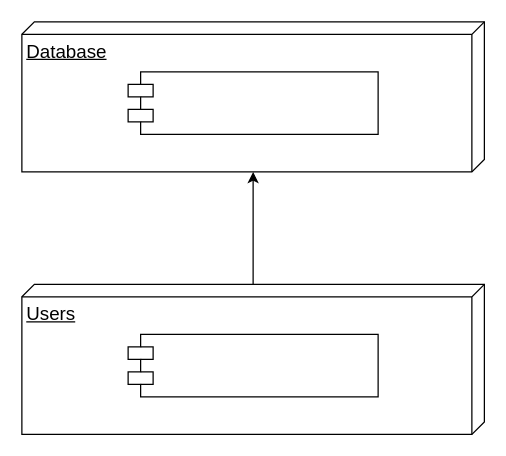
Some shapes in this 506 by 456 pixel diagram are drawn without their labels. The shapes that lost their labels are listed below. From the top down, each one's box as (x1, y1, x2, y2) in pixels, then its label:
(127, 71, 378, 134): Google Firebase
(127, 333, 378, 397): Unreal Furniture
